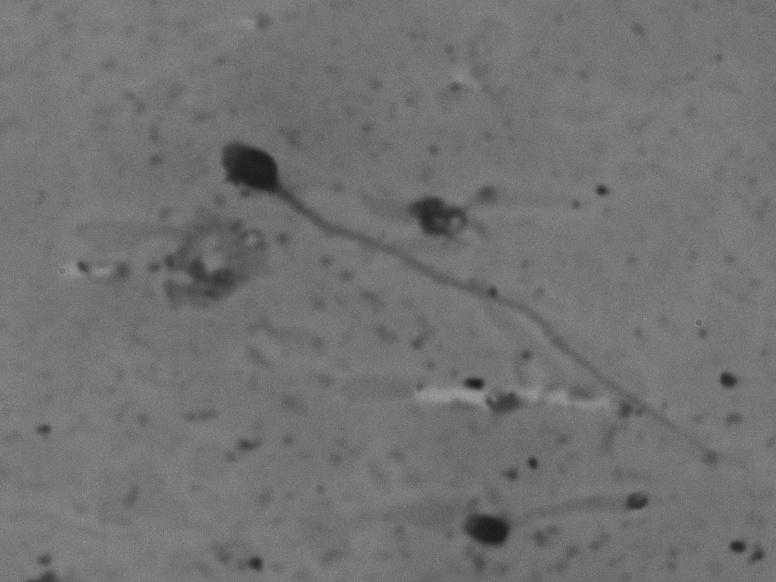Abnormal: (214, 118, 725, 481)
